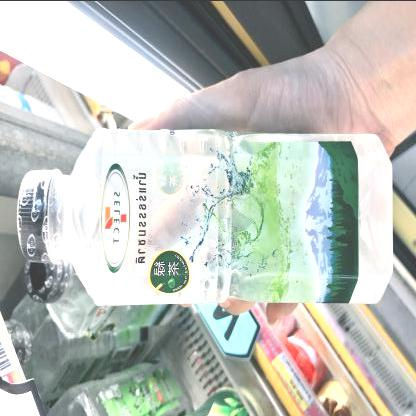bottle: (19, 128, 396, 309)
